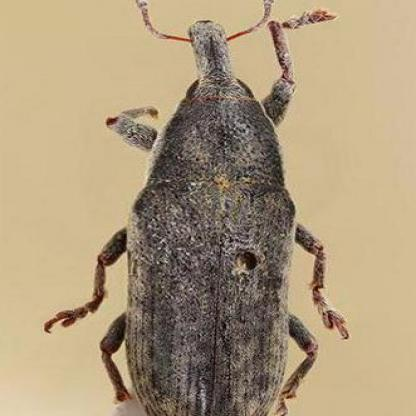rice-bug: (49, 2, 347, 416)
